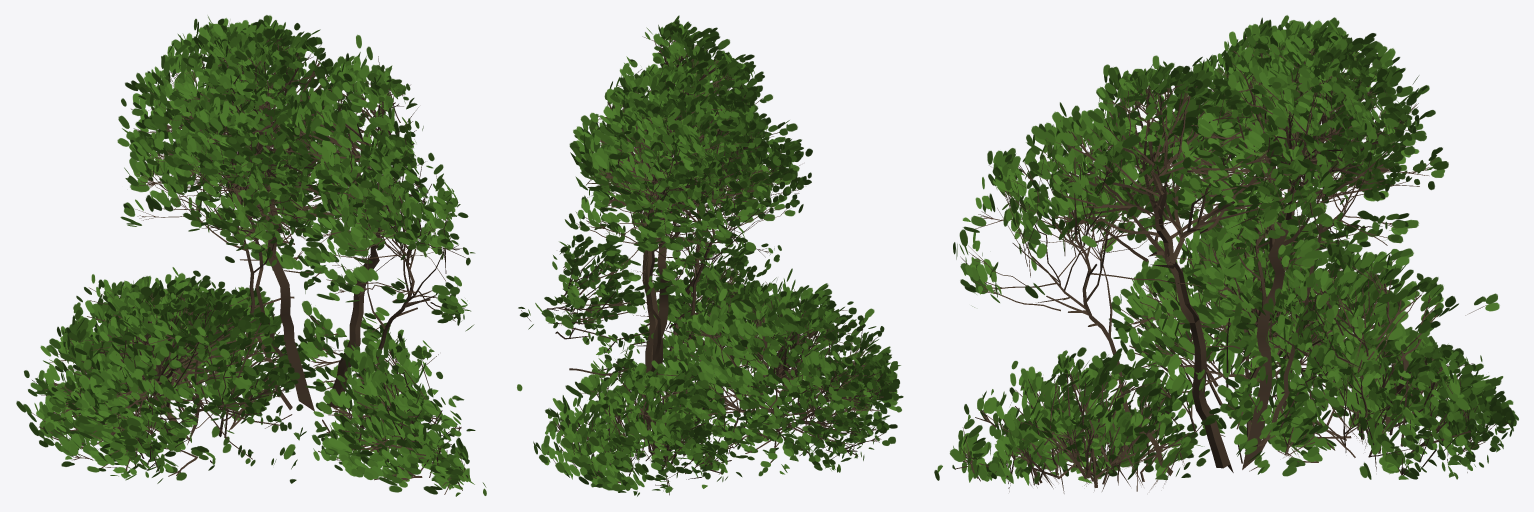
3 views of the same model, side by side, from view 1: azimuth 30°, elevation 25°; view 2: azimuth 150°, elevation 25°; view 3: azimuth 270°, elevation 25° (orthographic). The views are drawn at different scales.
Visible parts, largest first — view 1: oak 01.001_trunk_Mat.001_0.179; view 2: oak 01.001_trunk_Mat.001_0.179; view 3: oak 01.001_trunk_Mat.001_0.179.
Part boxes in pixels (x1=…): oak 01.001_trunk_Mat.001_0.179: x1=16, y1=15, x2=486, y2=496; oak 01.001_trunk_Mat.001_0.179: x1=517, y1=15, x2=903, y2=496; oak 01.001_trunk_Mat.001_0.179: x1=934, y1=15, x2=1518, y2=493.
Bounding box in the file's own units: 2.86 × 3.46 × 4.13.
2 materials, 1 textured.
